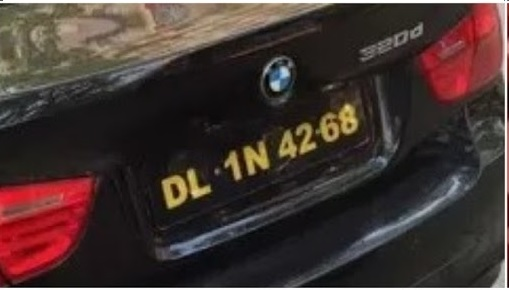number_plate: (124, 109, 399, 206)
